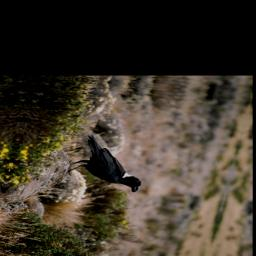Crow: (60, 133, 156, 195)
